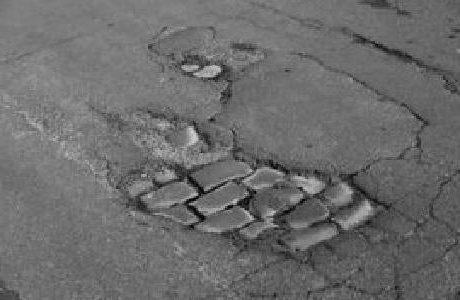pothole: (114, 153, 389, 260), (122, 105, 218, 162), (177, 53, 227, 80)
